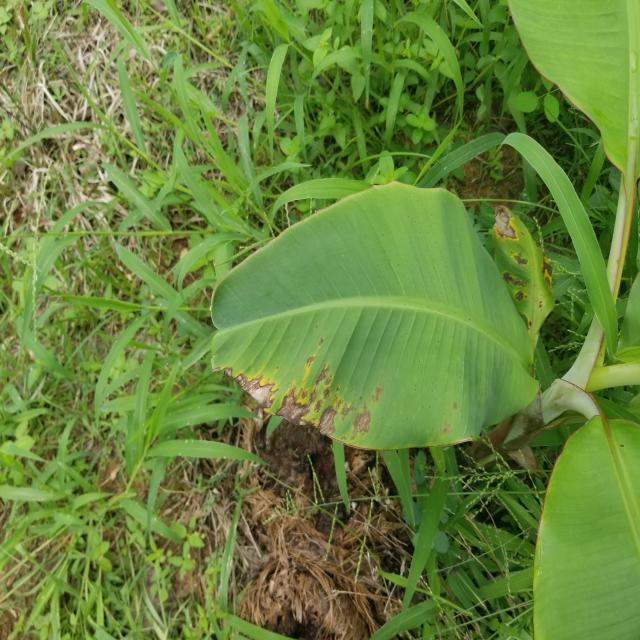Early_rust: (209, 330, 396, 464)
